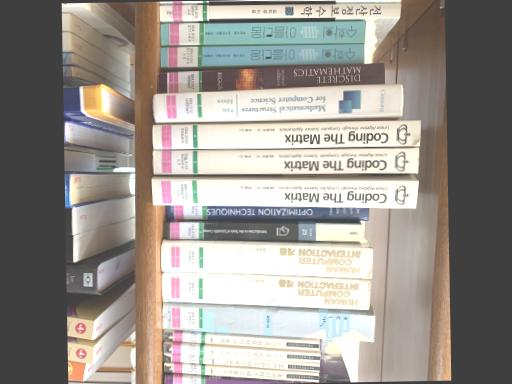book-spine: (152, 85, 403, 122), (152, 120, 420, 150), (162, 305, 374, 342), (160, 274, 370, 310), (160, 244, 373, 279), (151, 180, 417, 208), (158, 63, 384, 94), (152, 149, 418, 174), (160, 43, 363, 67), (160, 22, 365, 45), (158, 3, 400, 21), (163, 222, 362, 242), (165, 204, 368, 223), (162, 343, 319, 362), (162, 332, 318, 351), (163, 354, 319, 372), (163, 364, 318, 382), (164, 378, 310, 384)
